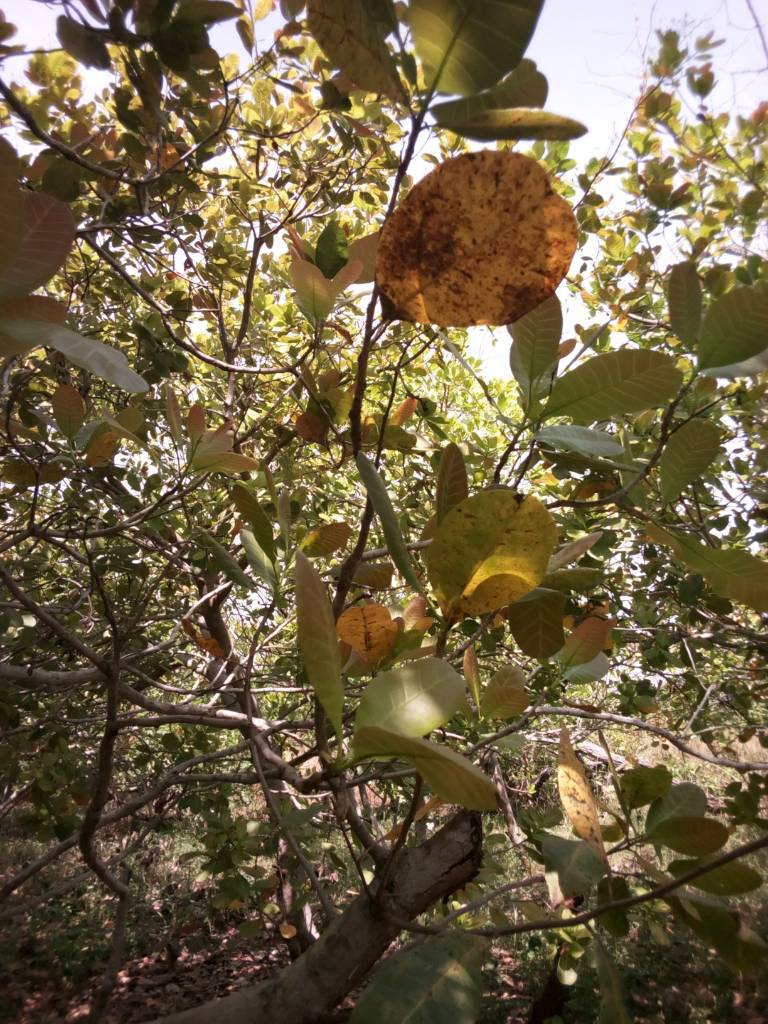Bactériose: (374, 146, 582, 330), (424, 488, 560, 621)
